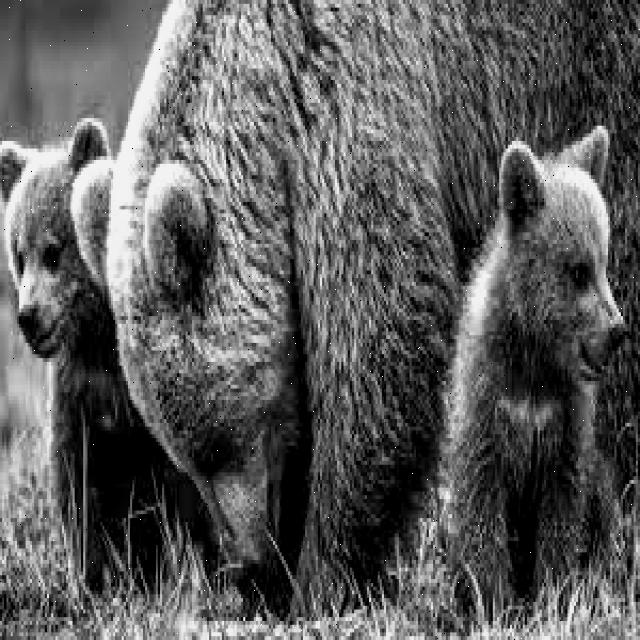bear: (111, 0, 420, 572), (430, 117, 615, 574), (0, 110, 120, 502)
